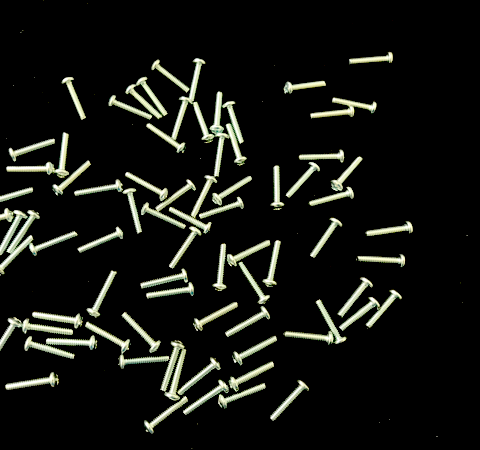longscrew: (267, 378, 313, 426), (142, 396, 190, 436), (182, 379, 229, 419), (120, 311, 163, 354), (177, 356, 222, 397), (364, 289, 404, 334), (231, 333, 280, 368), (223, 307, 273, 341), (226, 361, 276, 395), (5, 208, 40, 256), (313, 299, 348, 347), (217, 381, 269, 413), (167, 226, 203, 272), (52, 159, 93, 199), (337, 277, 375, 320), (338, 296, 381, 334), (86, 269, 118, 320), (307, 217, 343, 262), (83, 322, 132, 355), (143, 122, 189, 157), (193, 301, 240, 335), (236, 260, 270, 306), (0, 235, 36, 278), (153, 178, 196, 214), (139, 201, 187, 233), (225, 238, 273, 270), (148, 59, 191, 94), (211, 174, 256, 207), (23, 336, 76, 364), (124, 84, 164, 121), (285, 161, 322, 201), (29, 231, 80, 260), (123, 170, 169, 202), (158, 340, 185, 394), (76, 227, 126, 256), (135, 76, 169, 118), (0, 209, 29, 258), (167, 205, 213, 235), (107, 94, 153, 124), (60, 75, 89, 122), (190, 175, 219, 222), (3, 371, 61, 394), (188, 99, 217, 145), (329, 156, 364, 194), (7, 137, 57, 163), (196, 195, 246, 221), (139, 268, 189, 292), (0, 317, 23, 369), (165, 350, 187, 403), (223, 121, 248, 167), (115, 352, 172, 372), (307, 186, 356, 209), (222, 100, 247, 145), (261, 238, 283, 289), (31, 309, 84, 330), (20, 318, 75, 338), (143, 282, 198, 302), (282, 329, 337, 349), (121, 186, 143, 235), (169, 96, 192, 142), (331, 96, 379, 118), (44, 335, 99, 354), (73, 179, 125, 199), (345, 50, 396, 70), (364, 220, 414, 240), (3, 160, 58, 178), (212, 241, 230, 295), (282, 77, 330, 97), (0, 186, 36, 212), (355, 253, 408, 270), (187, 57, 206, 104), (211, 130, 229, 179), (53, 132, 71, 180), (269, 165, 286, 214), (307, 105, 355, 122), (209, 91, 227, 136), (297, 148, 347, 164), (0, 207, 13, 233)
